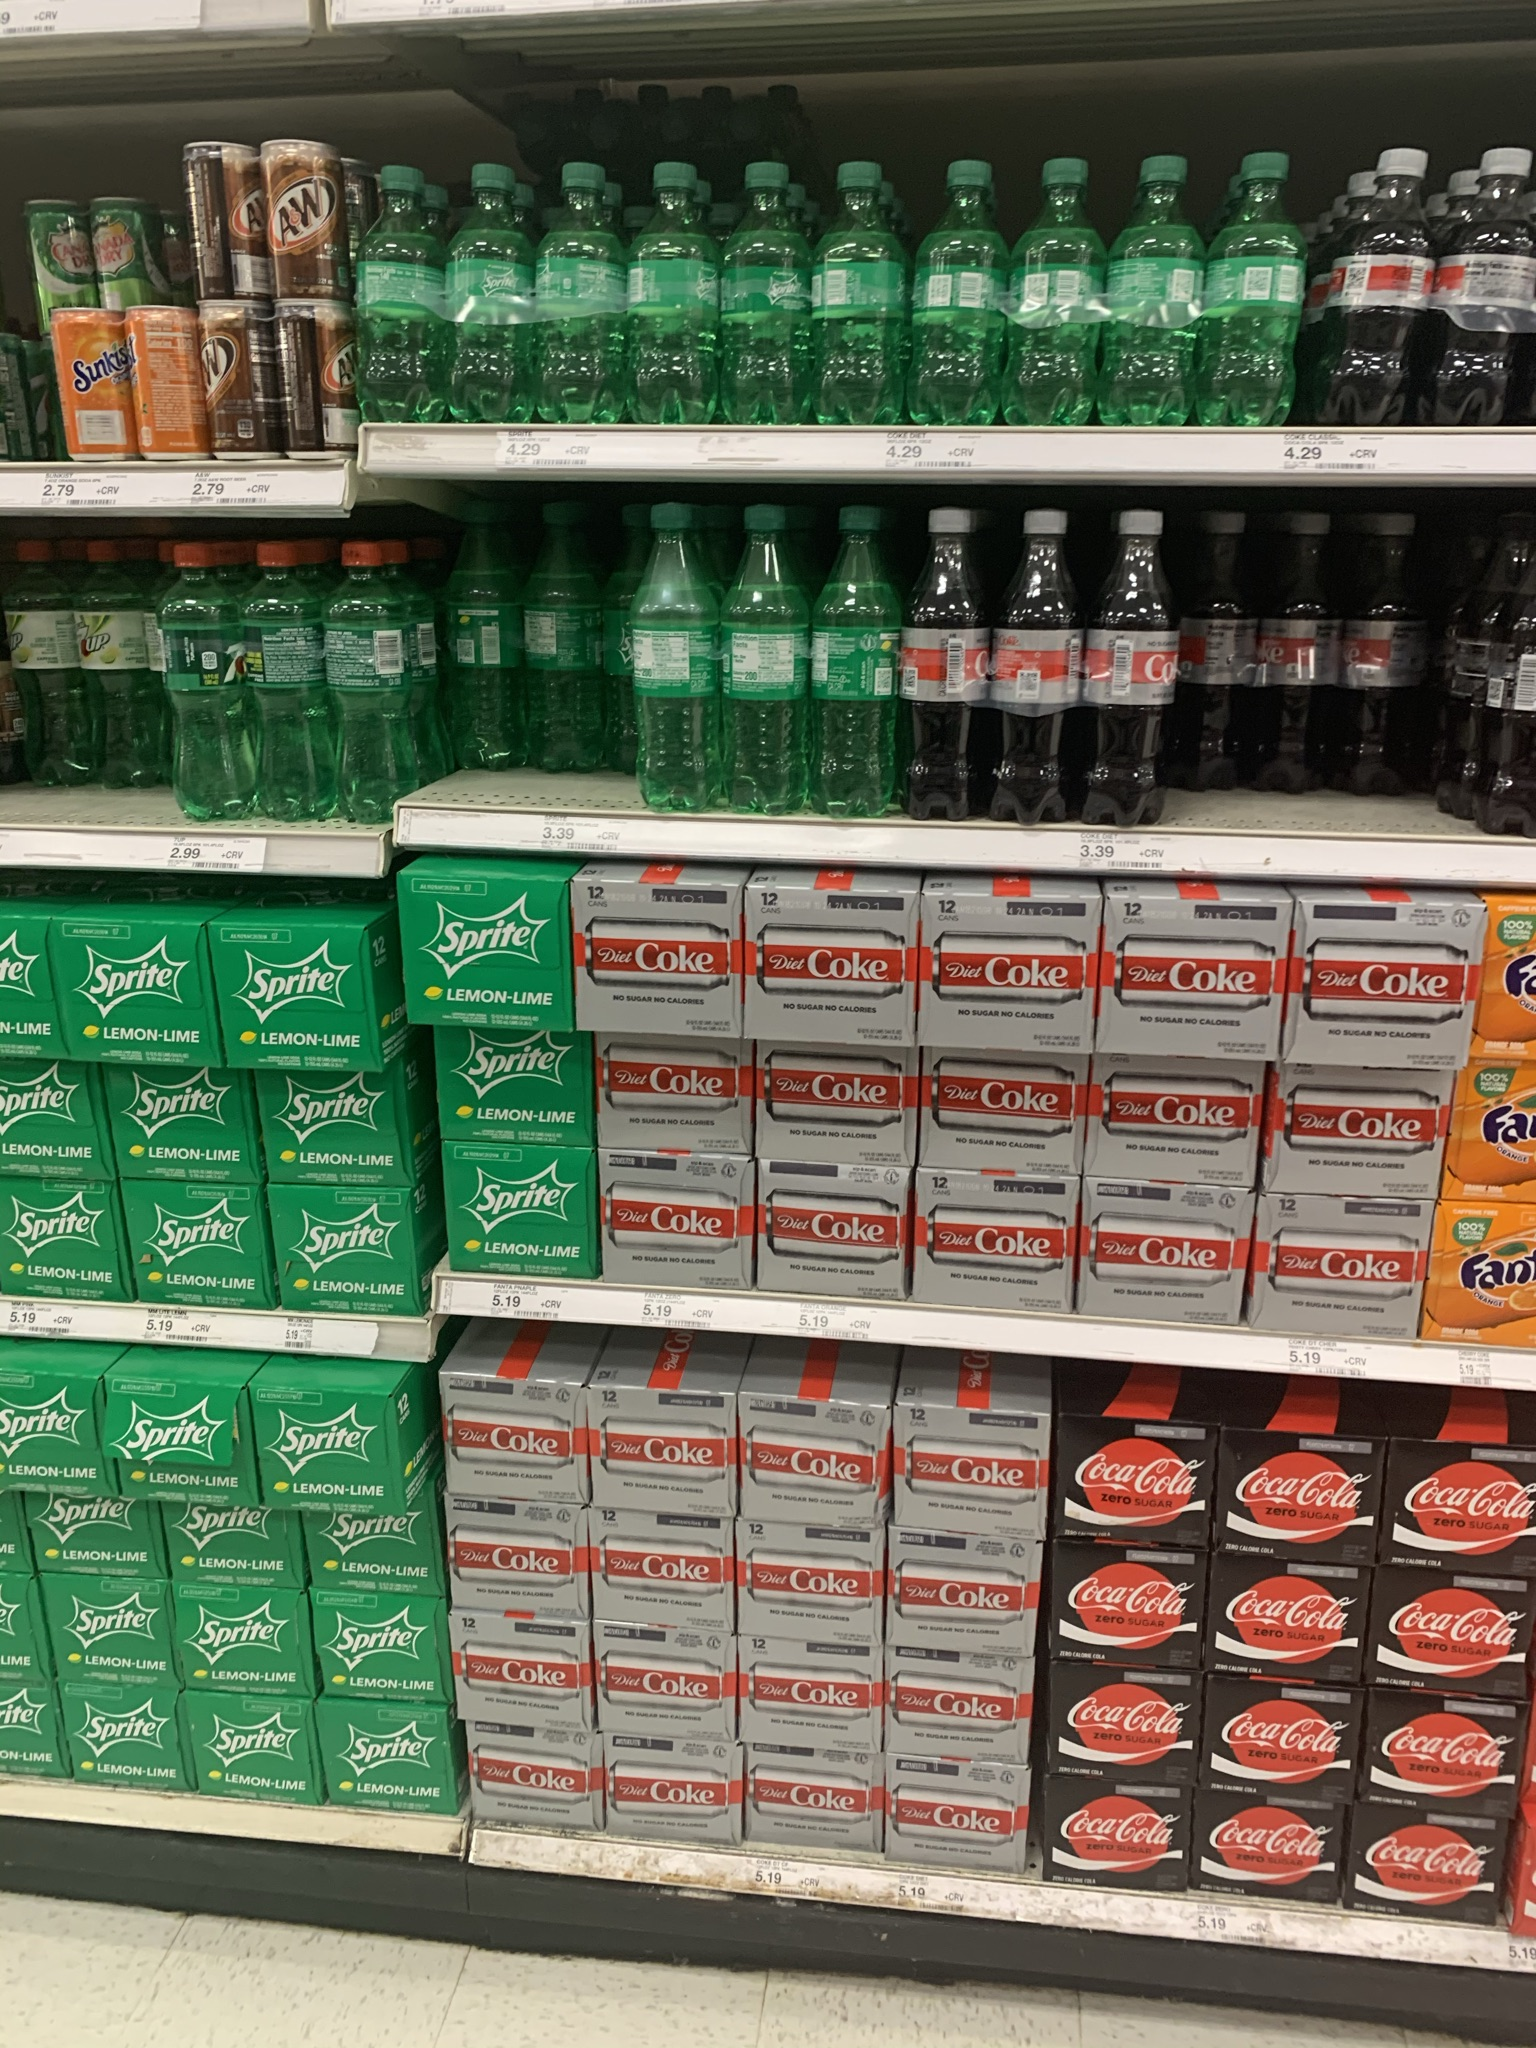Soda: (145, 522, 261, 827), (620, 490, 724, 813), (1338, 111, 1442, 427), (1107, 887, 1289, 1064), (1299, 885, 1468, 1071), (1212, 124, 1313, 424), (318, 527, 419, 826), (1005, 490, 1091, 839), (745, 871, 921, 1040), (573, 863, 741, 1040), (905, 485, 992, 826), (821, 481, 905, 832), (632, 127, 728, 434), (205, 913, 387, 1071), (1021, 124, 1112, 440), (50, 905, 215, 1077), (921, 134, 1018, 426), (733, 484, 812, 830), (1255, 1195, 1433, 1348), (537, 132, 629, 427), (1113, 126, 1199, 439), (397, 869, 573, 1021), (821, 135, 912, 424), (1108, 481, 1183, 830), (1052, 1400, 1225, 1550), (728, 139, 815, 435), (252, 1364, 415, 1522), (1455, 103, 1533, 427), (734, 1388, 892, 1546), (432, 1363, 595, 1513), (353, 153, 440, 427), (453, 131, 532, 432), (886, 1393, 1042, 1543), (1092, 1184, 1249, 1326), (102, 1376, 261, 1508), (1365, 1672, 1517, 1811), (916, 1176, 1079, 1303), (591, 1163, 750, 1280), (1234, 1414, 1379, 1543), (1350, 1808, 1513, 1921), (883, 1750, 1036, 1866), (56, 1679, 197, 1804), (316, 1705, 463, 1822), (168, 1576, 315, 1688), (258, 131, 350, 306), (310, 1596, 460, 1703)
